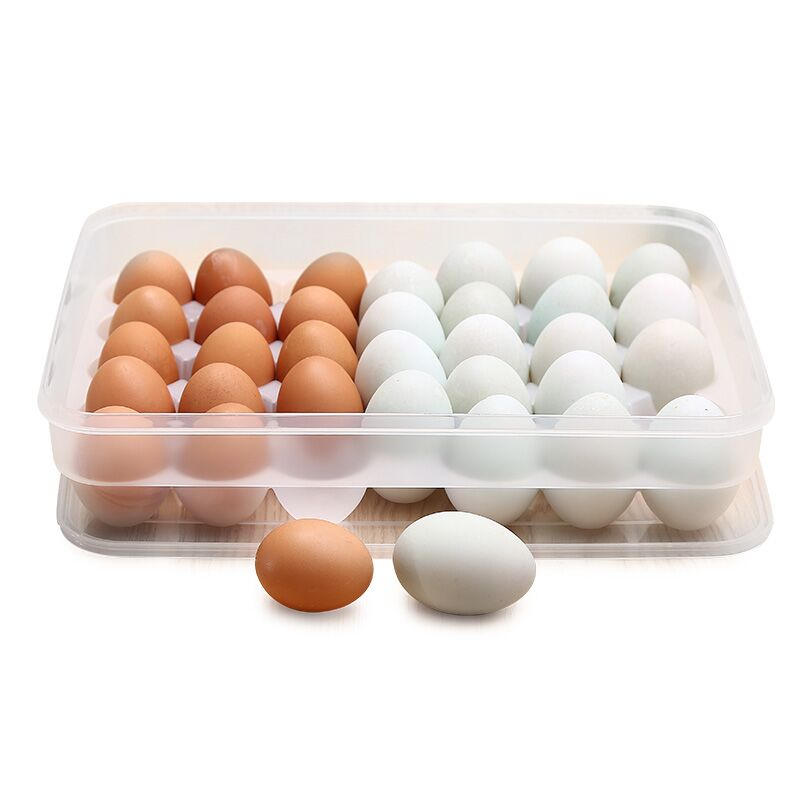egg: (85, 235, 734, 455), (385, 509, 542, 622), (225, 514, 376, 617)
